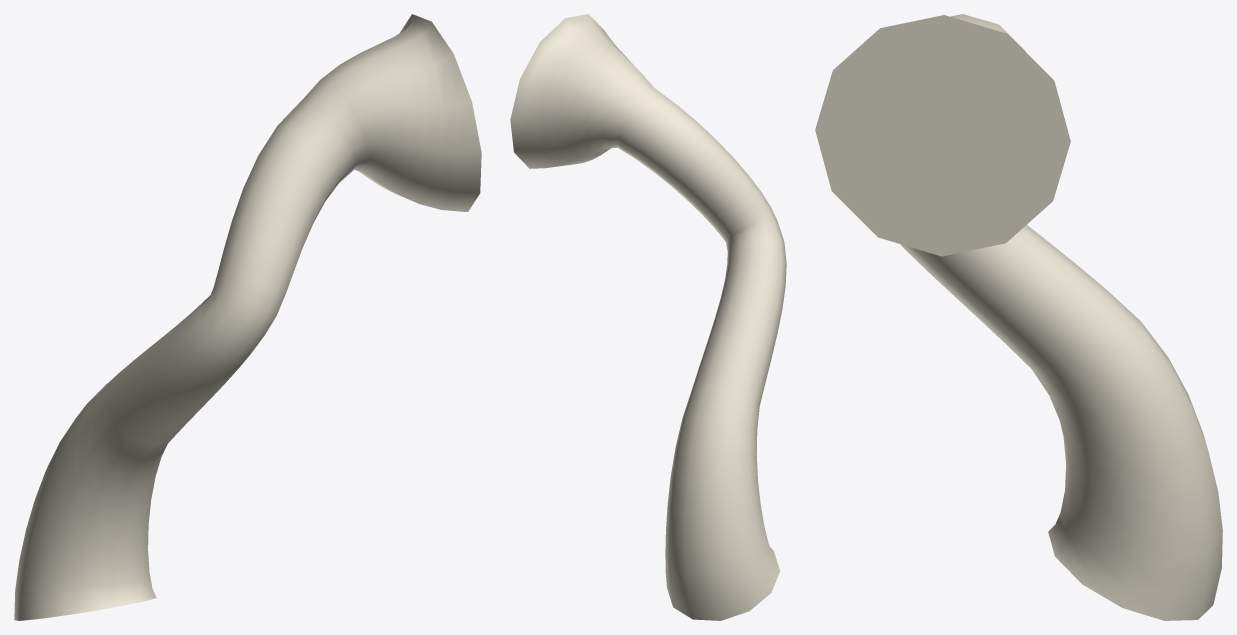
3 renders of one model, left to right at view 1: azimuth 30°, elevation 25°; view 2: azimuth 150°, elevation 25°; view 3: azimuth 270°, elevation 25°, orthographic. The views are drawn at different scales.
Parts seen in each view (by area): view 1: ZA_1bd0fec0ac05cbff; view 2: ZA_1bd0fec0ac05cbff; view 3: ZA_1bd0fec0ac05cbff.
Part boxes in pixels (x1=…): ZA_1bd0fec0ac05cbff: x1=14, y1=14, x2=481, y2=620; ZA_1bd0fec0ac05cbff: x1=510, y1=14, x2=786, y2=620; ZA_1bd0fec0ac05cbff: x1=815, y1=14, x2=1222, y2=620.
Size of the model in its own units: 0.0233 by 0.0379 by 0.0186.
